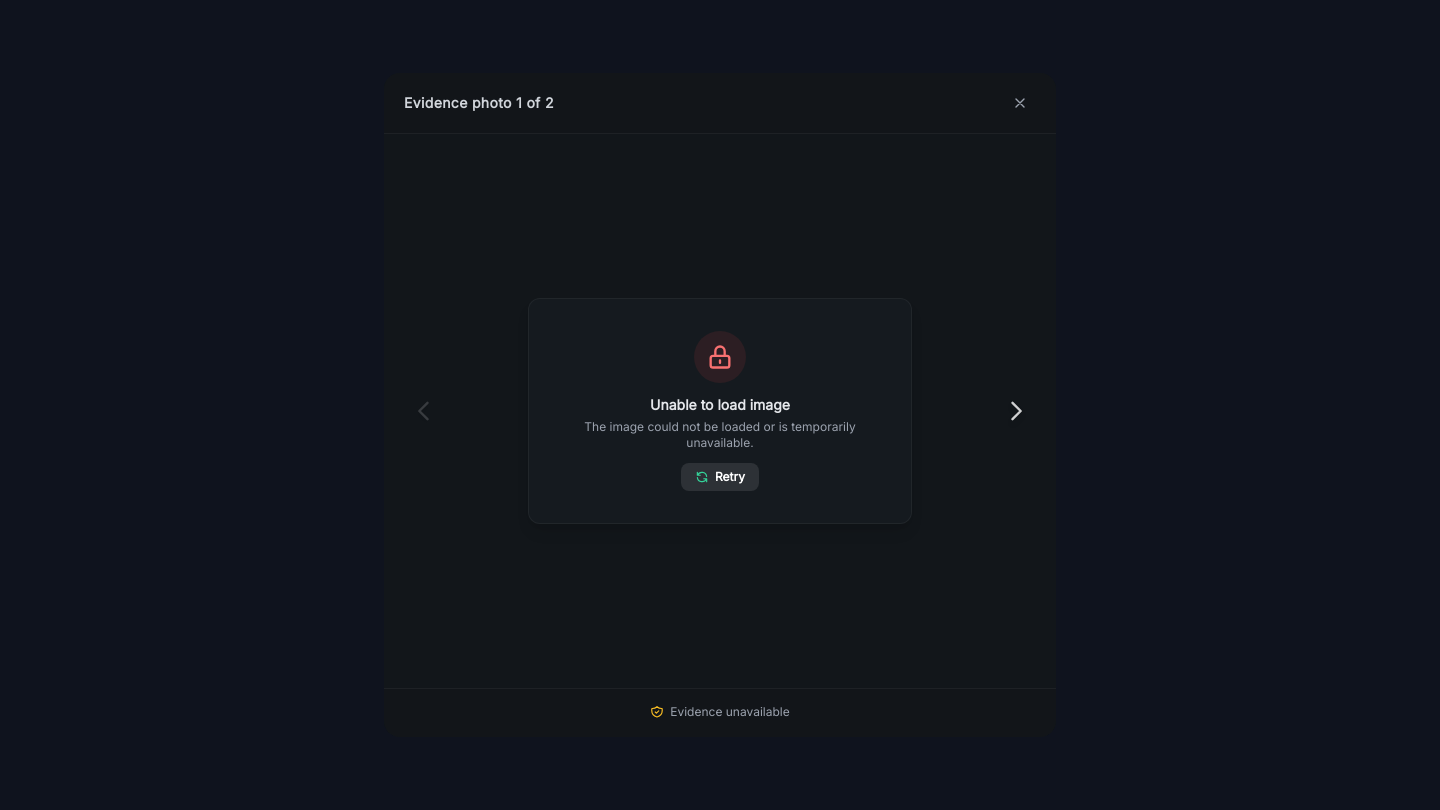
Test case: ImageViewer Component Security, Privacy Boundary, and Provenance › 22. Displays item-specific error state while keeping Previous and Next navigation buttons active
The width and height of the screenshot is (1440, 810).
Expected: the message shows "Unable to load image", [650, 396, 790, 413]
What coordinates should you click on to do the following:
click the button named "Next evidence photo"
I would click on:
 (1016, 411)
Its box is [992, 387, 1040, 435].
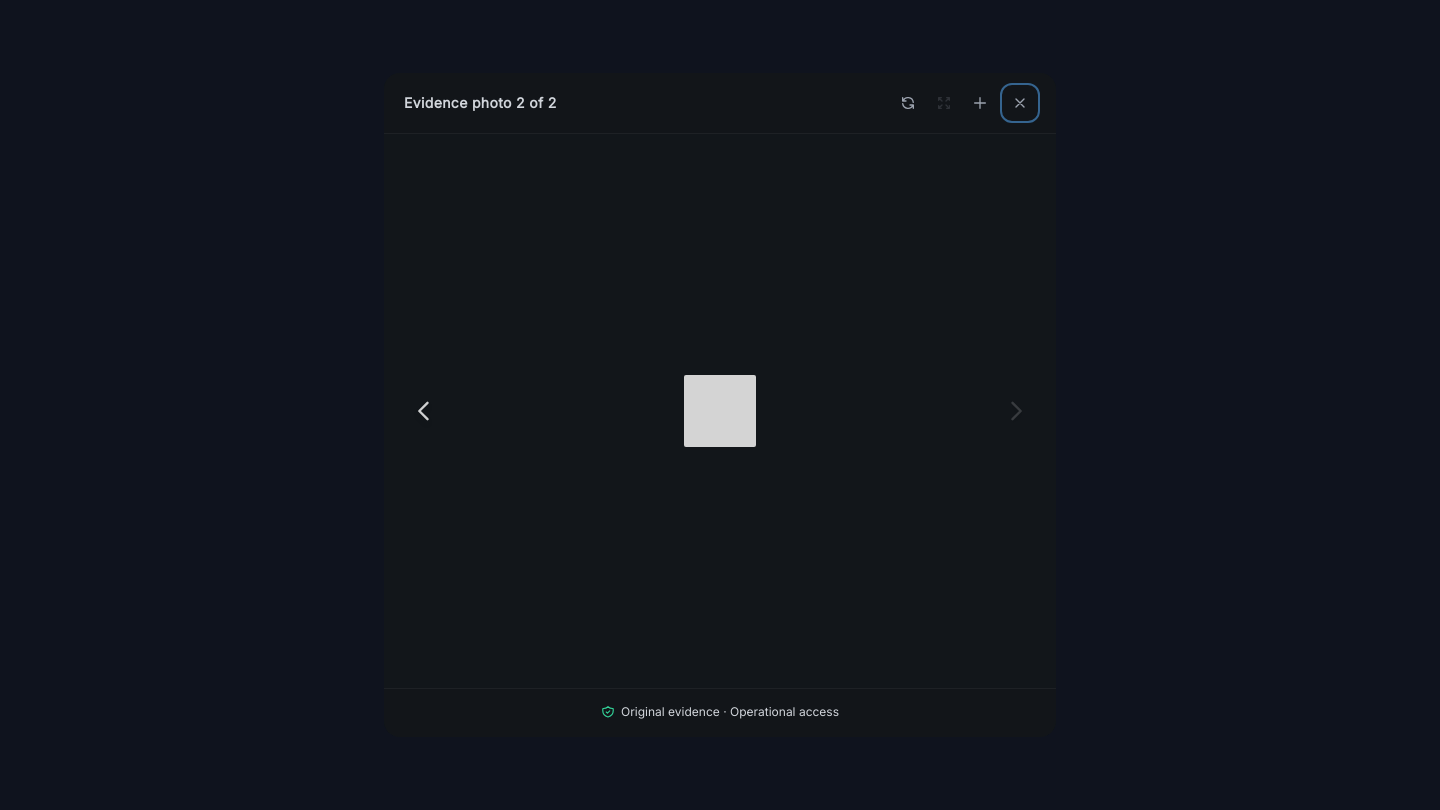
Expected: the heading reads "Evidence photo 2 of 2", [404, 94, 557, 111]
